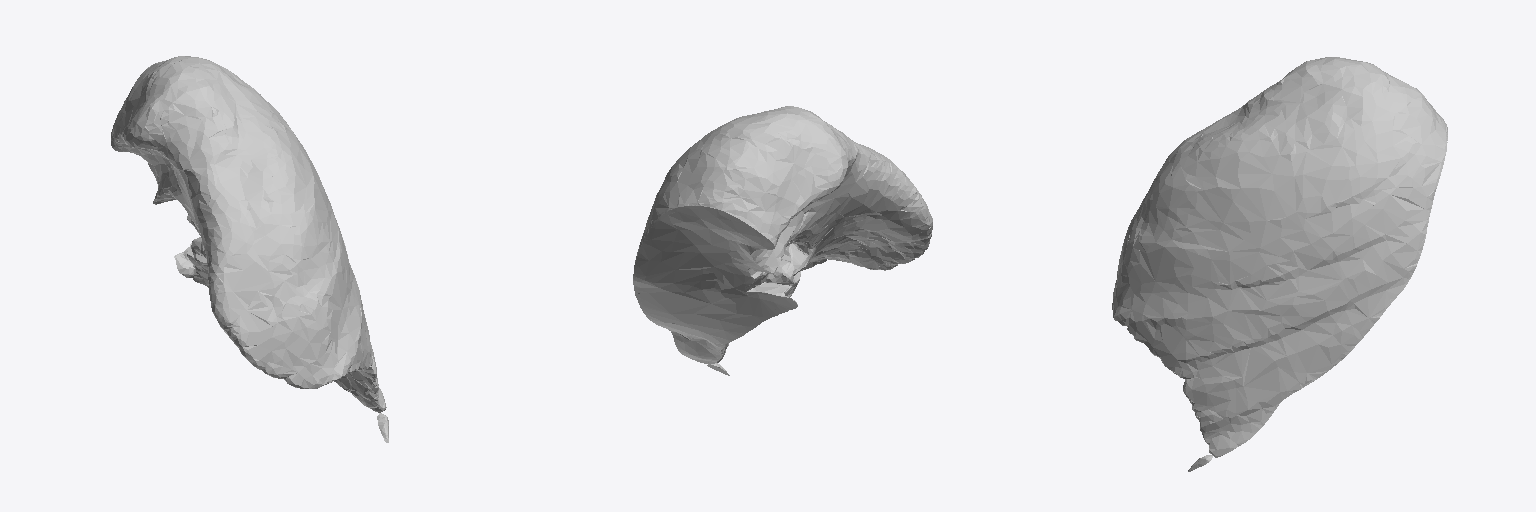
3 renders of one model, left to right at view 1: azimuth 30°, elevation 25°; view 2: azimuth 150°, elevation 25°; view 3: azimuth 270°, elevation 25°, orthographic.
Parts seen in each view (by area): view 1: Polygonal_Model_13_Triangles_0; view 2: Polygonal_Model_13_Triangles_0; view 3: Polygonal_Model_13_Triangles_0.
Part boxes in pixels (x1,y1,x2,y2): Polygonal_Model_13_Triangles_0: (111, 56, 388, 442); Polygonal_Model_13_Triangles_0: (633, 106, 932, 375); Polygonal_Model_13_Triangles_0: (1112, 57, 1447, 471).
Bounding box in the file's own units: 4.55 × 7.39 × 6.46.